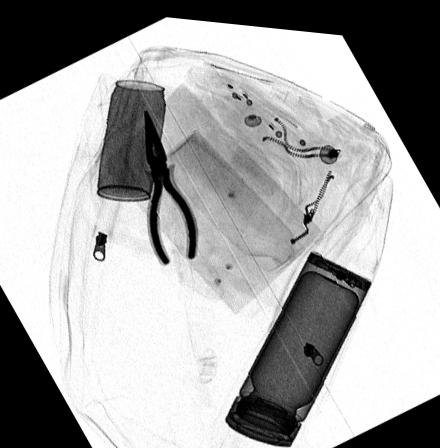Pliers: (141, 105, 197, 265)
